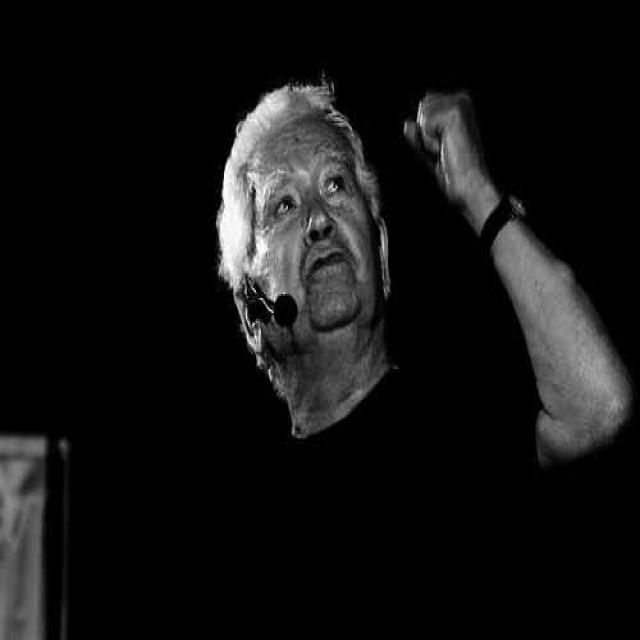microphone: (242, 274, 300, 331)
